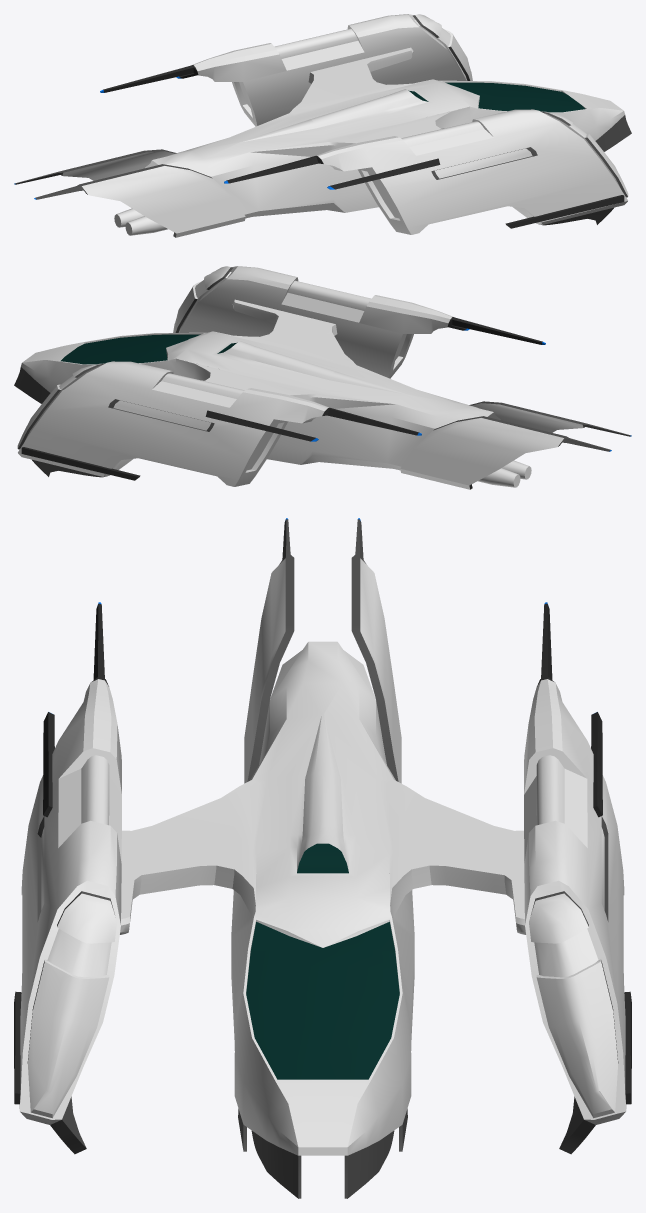
File: navesota.fbx
The picture shows the model from 3 angles, top to bottom: view 1: azimuth 30°, elevation 25°; view 2: azimuth 150°, elevation 25°; view 3: azimuth 270°, elevation 25°; orthographic projection. The views are drawn at different scales.
Parts seen in each view (by area): view 1: oxotnik; view 2: oxotnik; view 3: oxotnik.
Part boxes in pixels (left/top/right/bottom): oxotnik: left=14, top=14, right=631, bottom=237; oxotnik: left=14, top=266, right=631, bottom=489; oxotnik: left=14, top=518, right=631, bottom=1198.
Size of the model in its own units: 1885 by 399 by 931.
